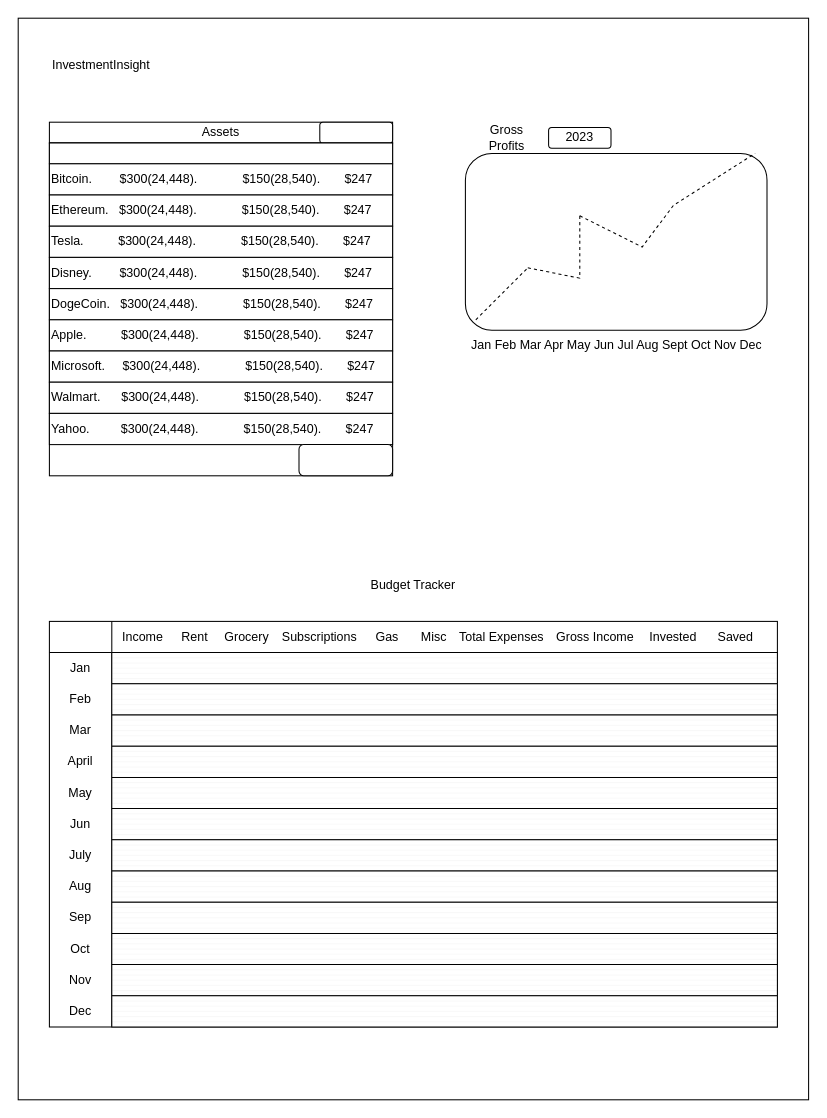
This 827x1118 diagram has some shape labels left out. Each missing label, with the box of its shape:
Asset Bought(+/price) Sold(-/price) P/L: (48, 142, 393, 164)
Edit: (319, 121, 393, 143)
Sort By: (298, 444, 393, 476)
